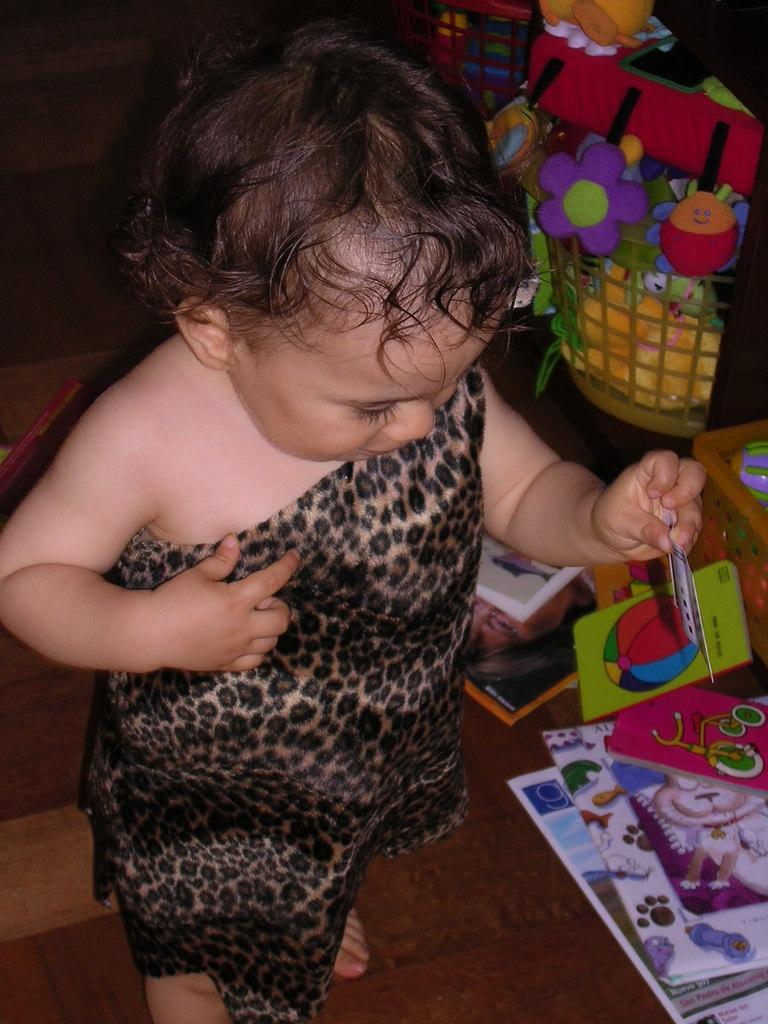Sem Máscara: (227, 295, 494, 464)
